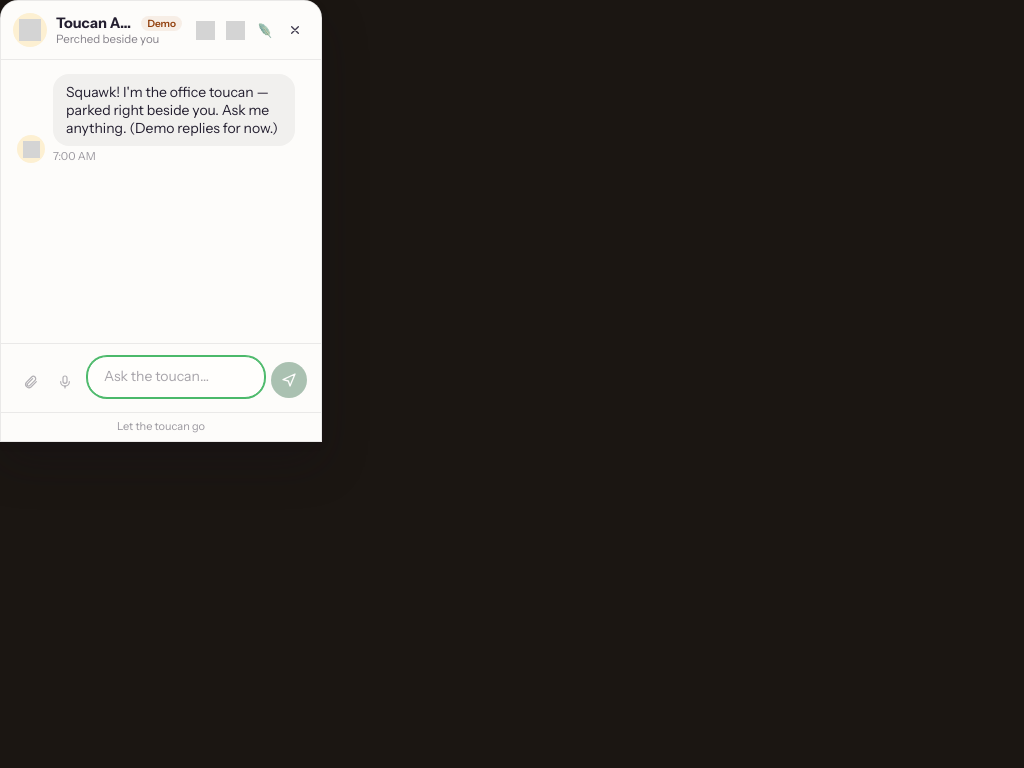
Test: ToucanAssistantPanel › shows the meaningful reply inside the panel
Type "where is micah" into the text box named "Message the toucan" at x=176, y=377, box [87,356,265,398]
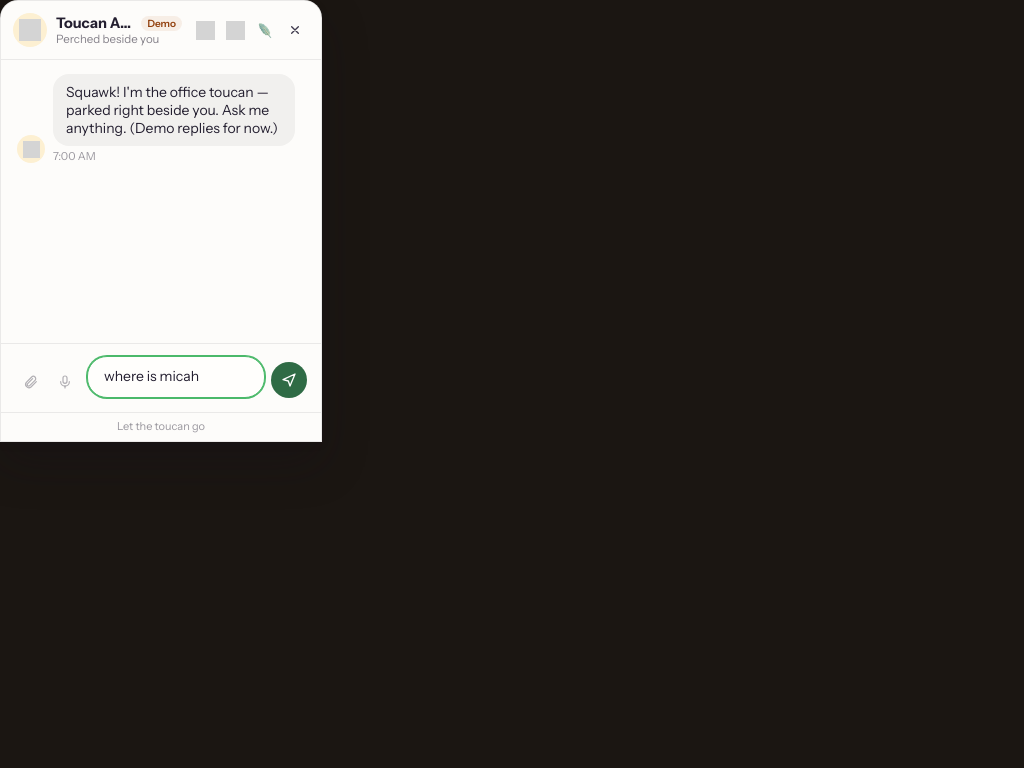
Press Enter in the text box named "Message the toucan", box [87,356,265,398]
Wait 1100 ms
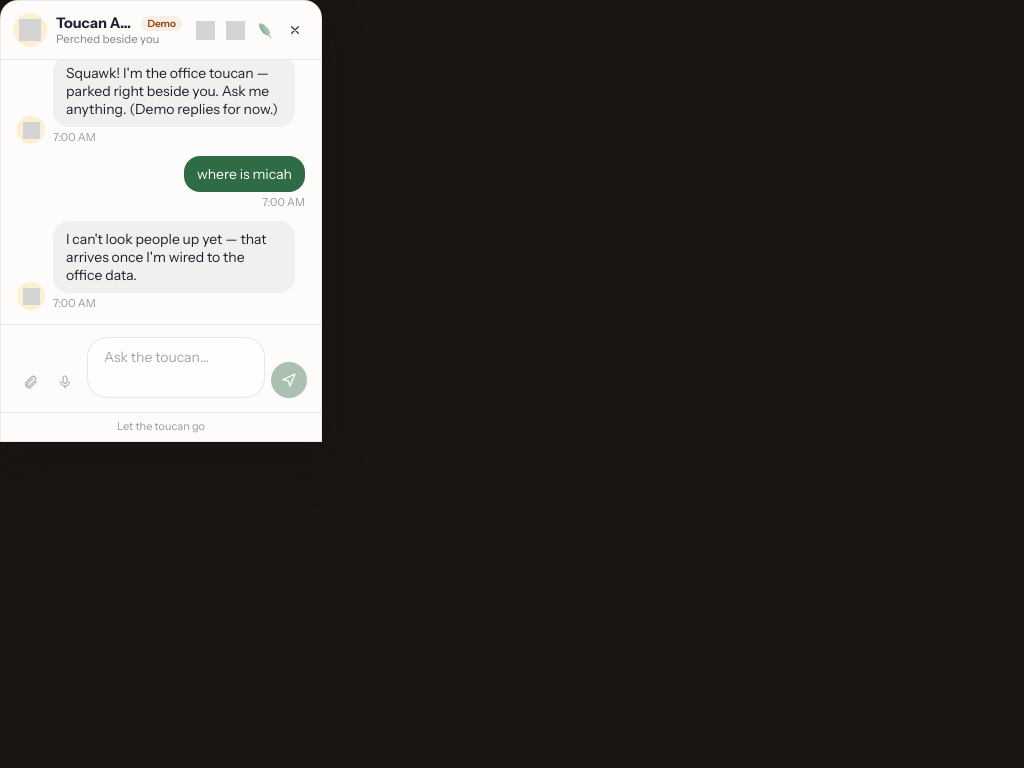
Expected: the text "can't look people up yet" is shown, [66,230,269,284]
